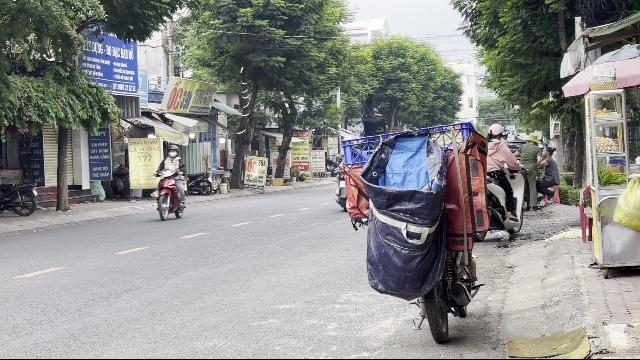helmet: (166, 143, 178, 157)
motorcyclist: (152, 143, 188, 221)
